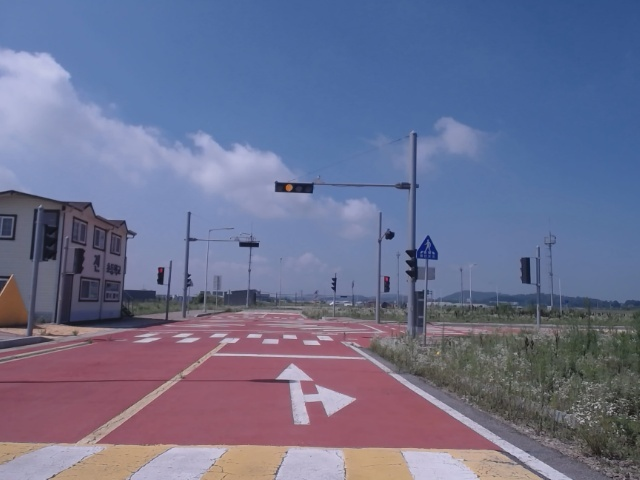orange_4: (274, 182, 313, 193)
